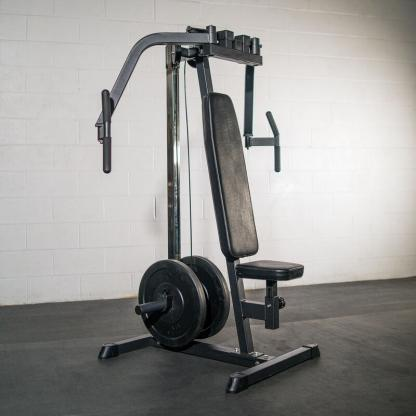chest fly machine: (87, 21, 328, 401)
